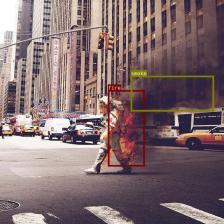fire: (108, 90, 144, 166)
smoke: (130, 76, 214, 111)
